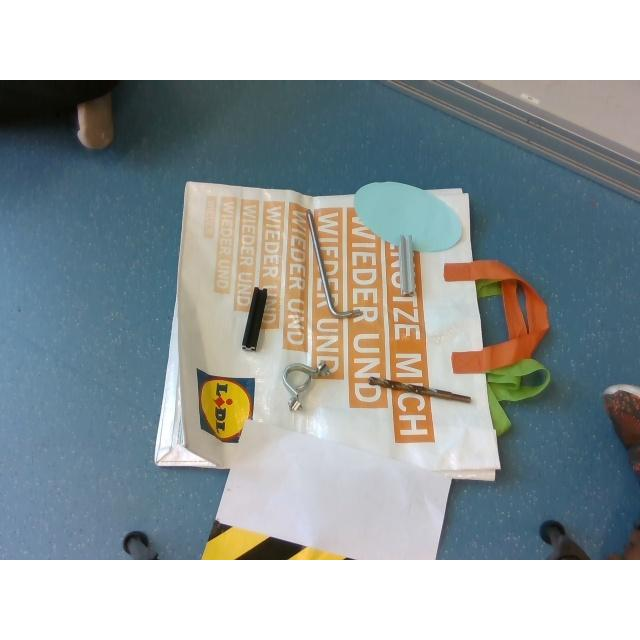AllenKey: (306, 210, 362, 318)
Drill: (368, 376, 470, 402)
F20_20_B: (242, 286, 266, 350)
F20_20_G: (398, 234, 414, 296)
Housing: (282, 362, 331, 411)
